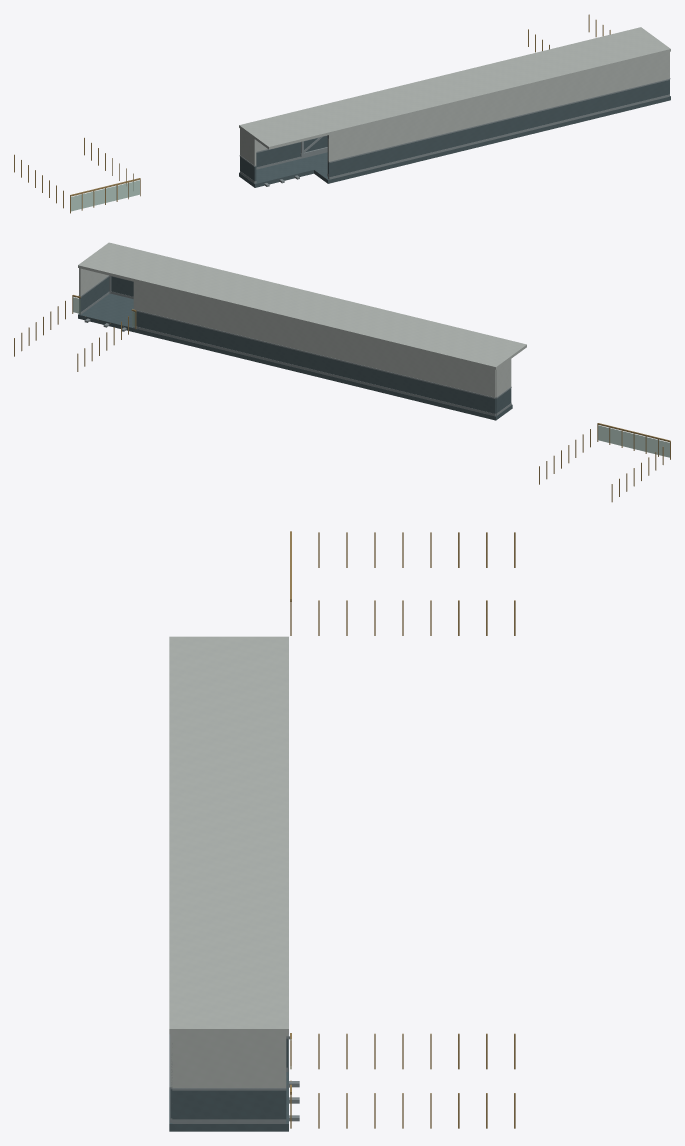
The model's file is FAMILY_D15_STAFF_RECEIVING_r001.glb.
3 renders of one model, top to bottom at view 1: azimuth 30°, elevation 25°; view 2: azimuth 150°, elevation 25°; view 3: azimuth 270°, elevation 25°, orthographic. The views are drawn at different scales.
Parts seen in each view (by area): view 1: F15_Canopy, F15_Edge0_Enamel, F15_Edge0_Dado, F15_MissingFloor, PATCH_FT_Batch_332, F15_Edge0_Toe, F15_Edge1_Dado, PATCH_FT_Batch_330, F15_Edge0_Reveal, F15_Edge3_Enamel; view 2: F15_Canopy, F15_Edge1_Enamel, F15_Edge1_Dado, F15_MissingFloor, PATCH_FT_Batch_330, PATCH_FT_Batch_332, F15_Edge1_Toe, F15_Edge1_Reveal, F15_Edge3_Enamel, F15_Edge2_Dado, F15_Edge2_Enamel; view 3: F15_Canopy, F15_Edge2_Enamel, F15_Edge2_Dado, PATCH_FT_Batch_330, F15_MissingFloor.
Part boxes in pixels (box(x1,y1,x2,y2)): F15_Canopy: box(239, 27, 670, 149); F15_Edge0_Enamel: box(328, 52, 669, 161); F15_Edge0_Dado: box(328, 80, 669, 177); F15_MissingFloor: box(239, 96, 670, 187); PATCH_FT_Batch_332: box(71, 180, 139, 211); F15_Edge0_Toe: box(328, 94, 669, 179); F15_Edge1_Dado: box(256, 136, 327, 167); PATCH_FT_Batch_330: box(14, 14, 610, 213); F15_Edge0_Reveal: box(328, 79, 669, 162); F15_Edge3_Enamel: box(240, 128, 256, 165); F15_Canopy: box(78, 242, 526, 369); F15_Edge1_Enamel: box(133, 281, 495, 397); F15_Edge1_Dado: box(133, 311, 495, 413); F15_MissingFloor: box(78, 293, 512, 420); PATCH_FT_Batch_330: box(14, 295, 670, 502); PATCH_FT_Batch_332: box(73, 297, 669, 457); F15_Edge1_Toe: box(133, 326, 495, 416); F15_Edge1_Reveal: box(136, 310, 495, 398); F15_Edge3_Enamel: box(495, 359, 511, 397); F15_Edge2_Dado: box(79, 277, 109, 312); F15_Edge2_Enamel: box(79, 268, 108, 295); F15_Canopy: box(169, 636, 288, 1034); F15_Edge2_Enamel: box(172, 1034, 286, 1087); F15_Edge2_Dado: box(172, 1090, 286, 1119); PATCH_FT_Batch_330: box(290, 531, 515, 1128); F15_MissingFloor: box(169, 1039, 288, 1131).
Bounding box in the file's own units: 37.78 × 3.22 × 9.84.
Materials: 8 (6 with a texture image).
